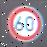Speed Limit -60-: (5, 4, 43, 41)
